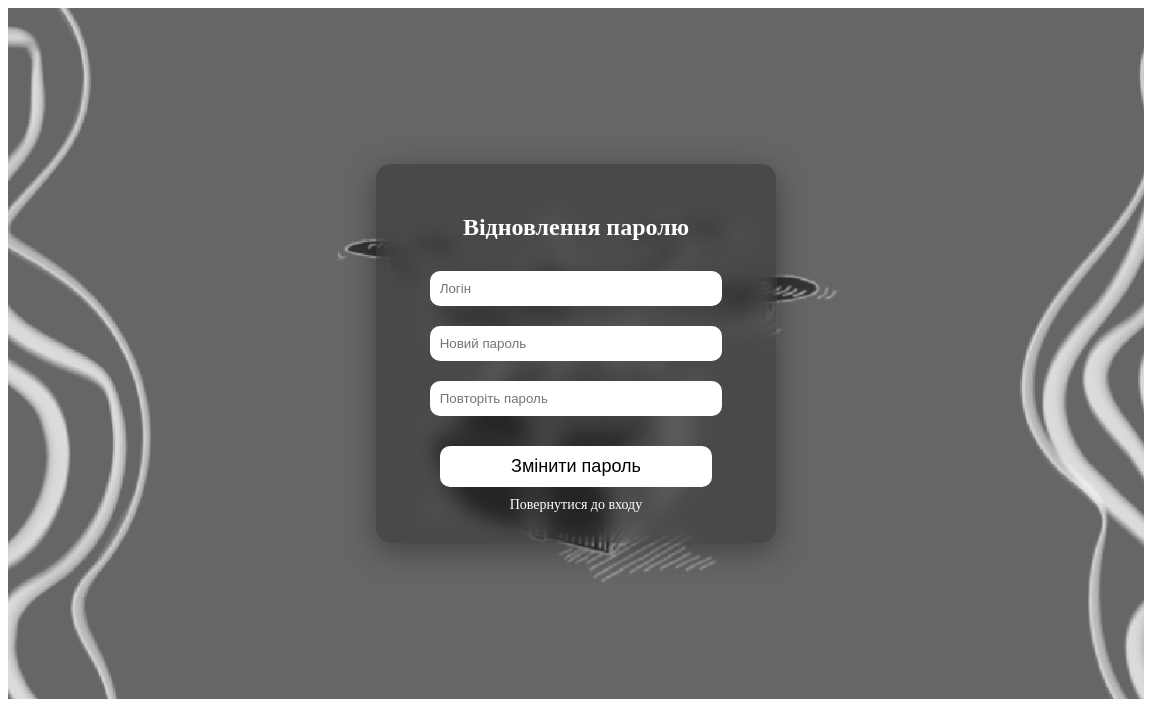
Test: Password Recovery Box › повинен показувати повідомлення про помилку при невдалому відновленні пароля
The image size is (1152, 720).
Type "wronguser" into the field with placeholder "Логін" at (577, 289), box [430,271,723,306]
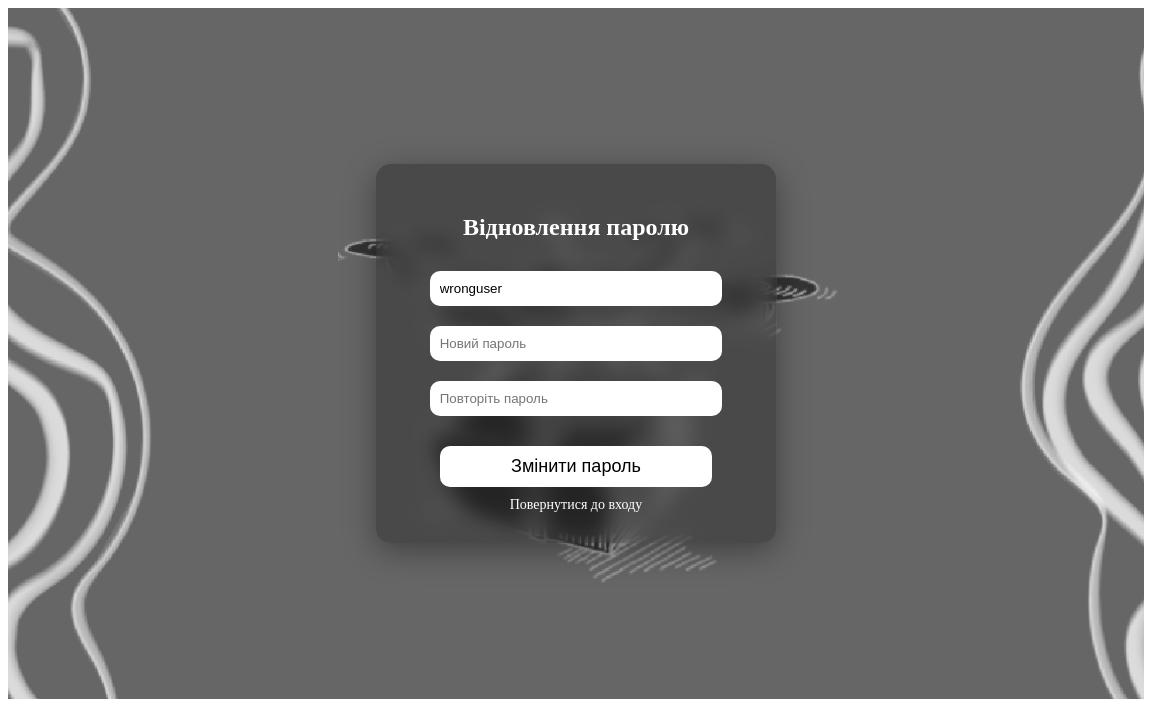
Type "password123" into the password field with placeholder "Новий пароль" at (577, 344), box [430,326,723,361]
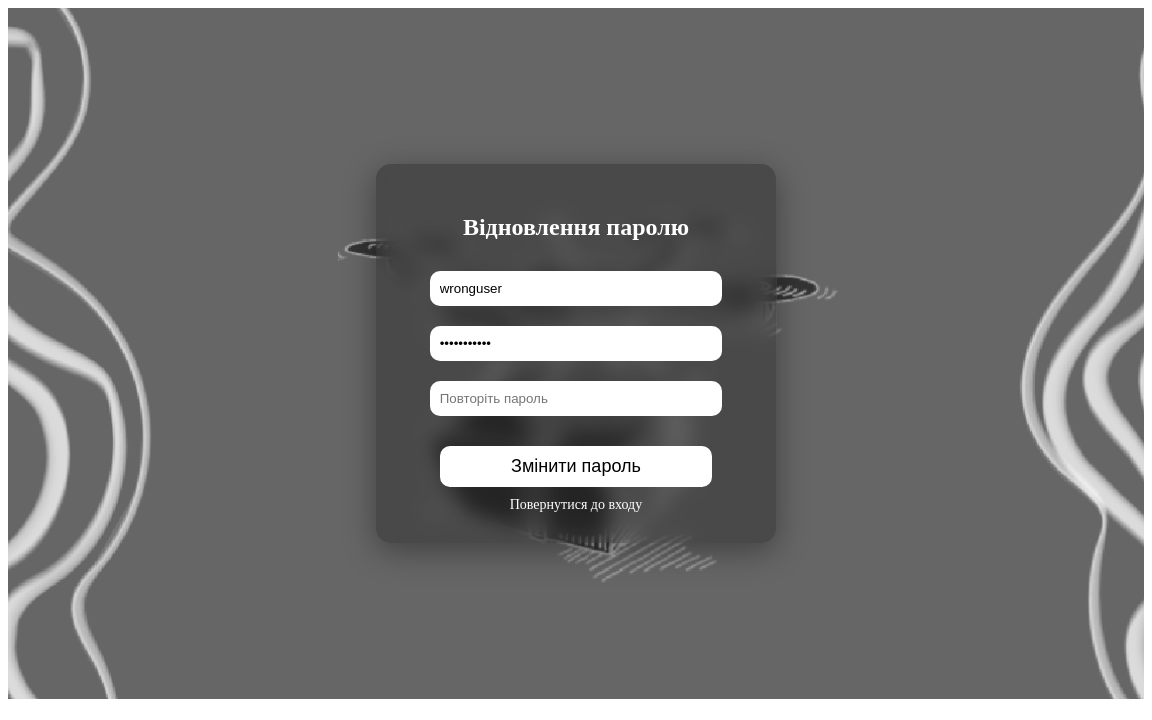
Type "password123" into the password field with placeholder "Повторіть пароль" at (577, 399), box [430,381,723,416]
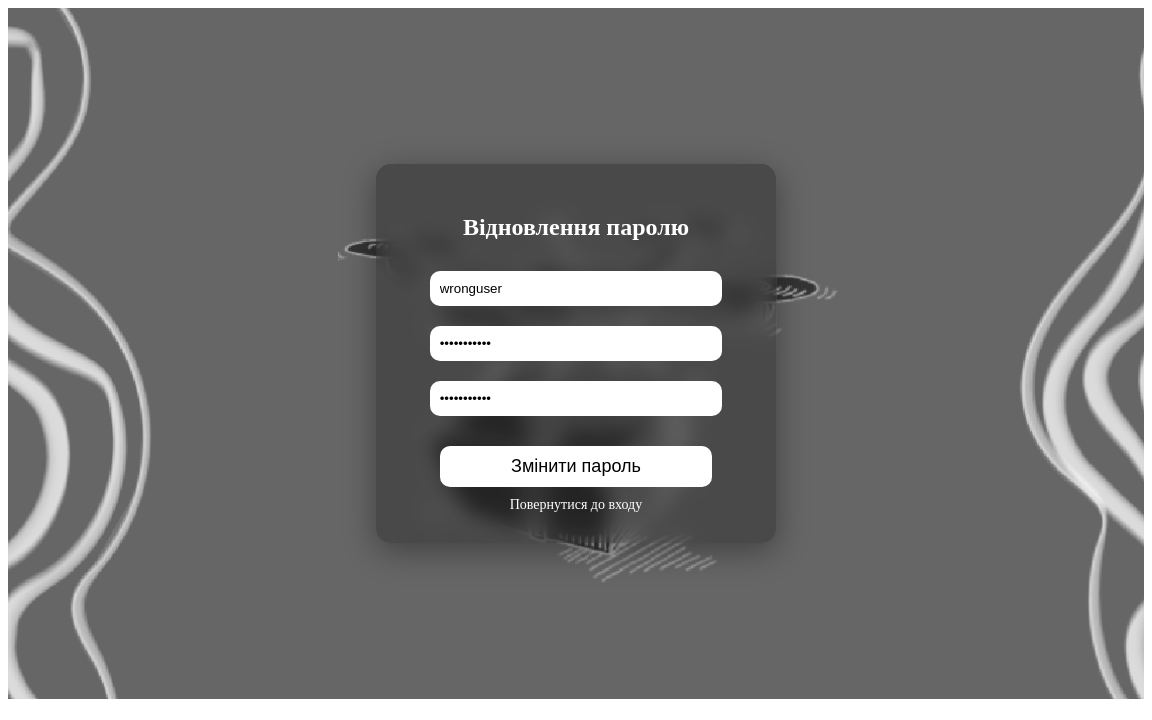
Click the button with class "next-button" at (577, 467), box [440,446,713,487]
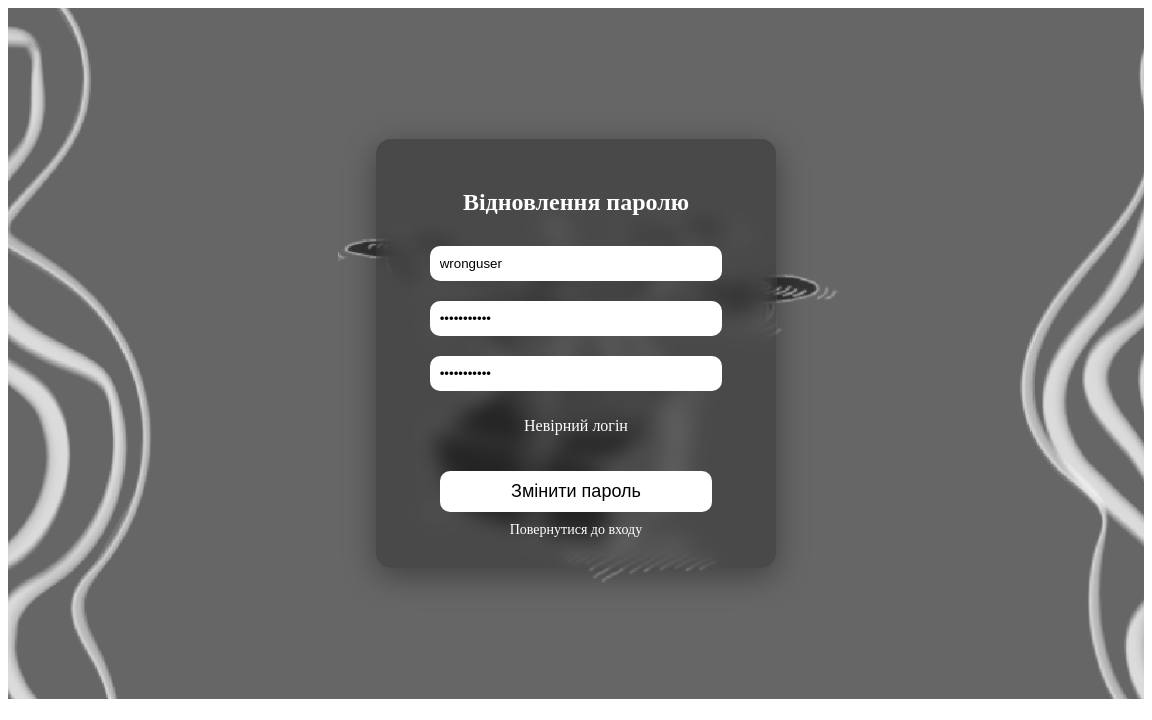
Expected: the text with class "error-message" reads "Невірний логін", [524,417,628,434]
